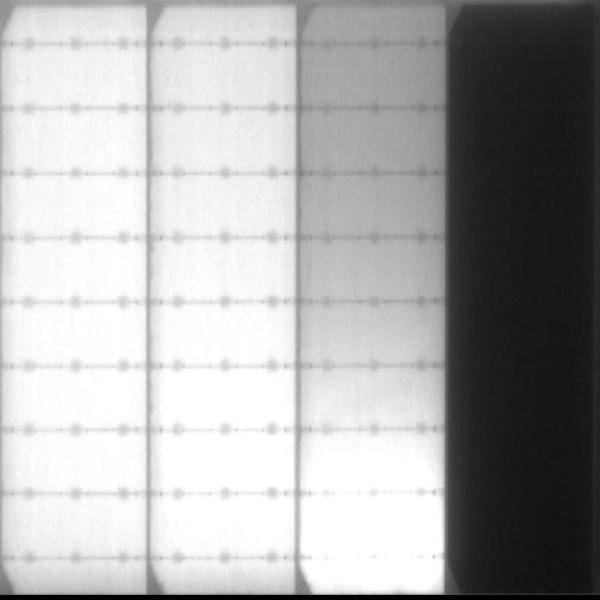hot_spot: (304, 500, 444, 553), (159, 435, 290, 485), (161, 375, 287, 425), (156, 499, 290, 546), (313, 558, 440, 592), (308, 463, 440, 492)
no_electricity: (449, 4, 600, 591)
